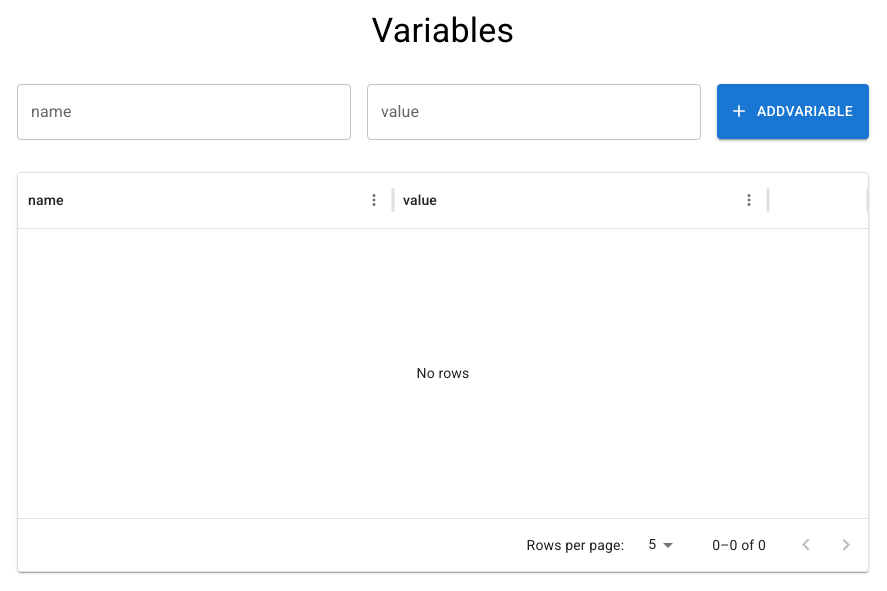
it: VariablesContent Component › adds a new variable to the grid and local storage
Step 1. Type "testName" into the field labelled "name" → x=184, y=112, box [17, 84, 351, 140]
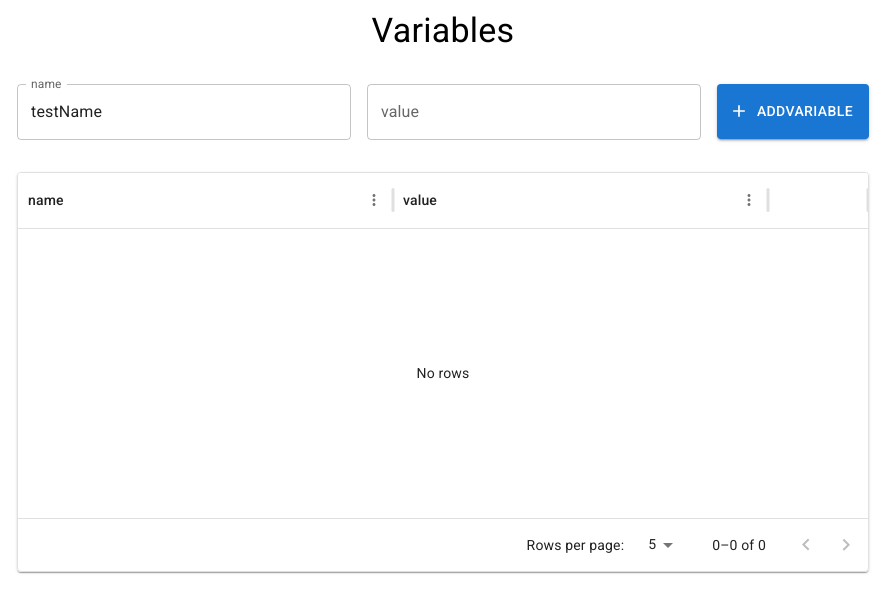
Step 2. Type "testValue" into the field labelled "value" → x=534, y=112, box [367, 84, 701, 140]
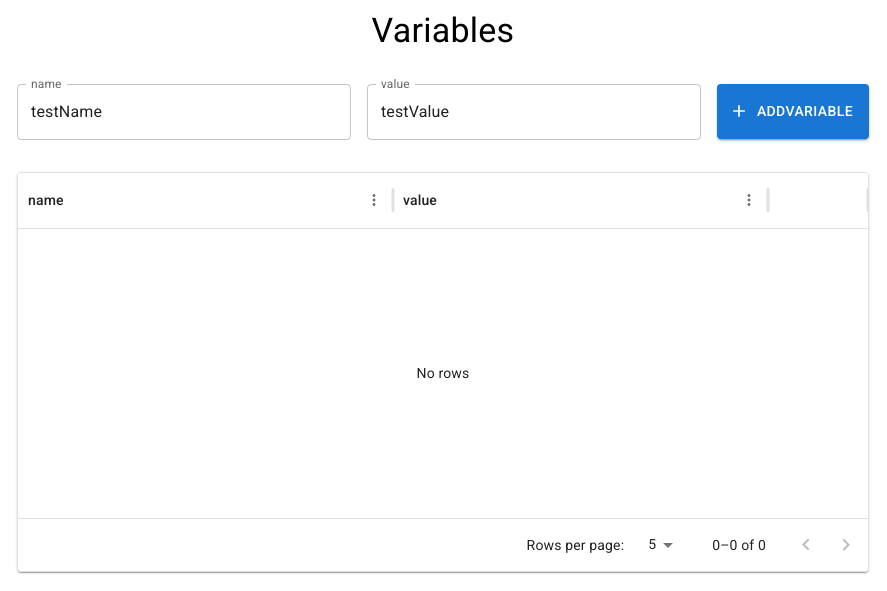
Step 3. Click the button "addVariable" → x=793, y=112, box [717, 84, 869, 139]
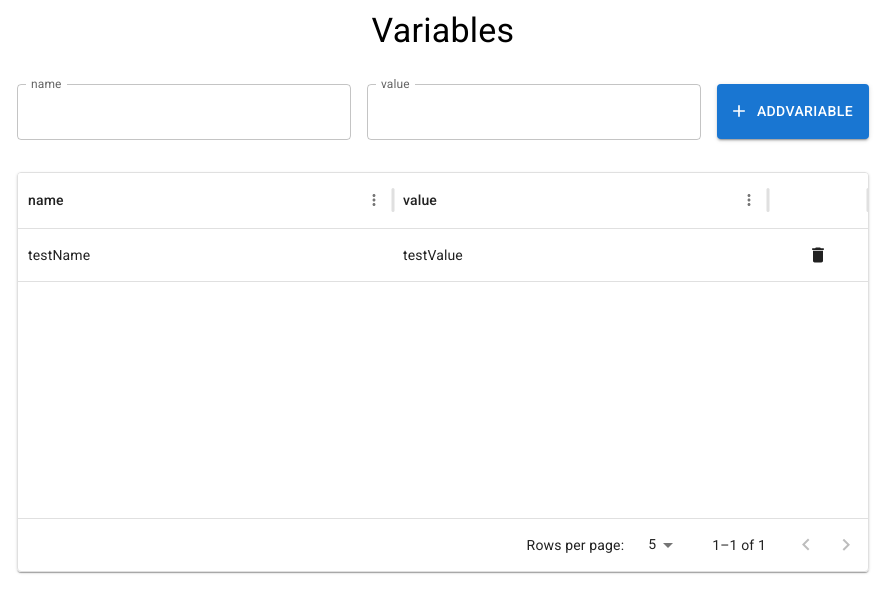
Now the text "testName" is shown, box [28, 247, 90, 263]
Now the text "testValue" is shown, box [403, 247, 463, 263]
